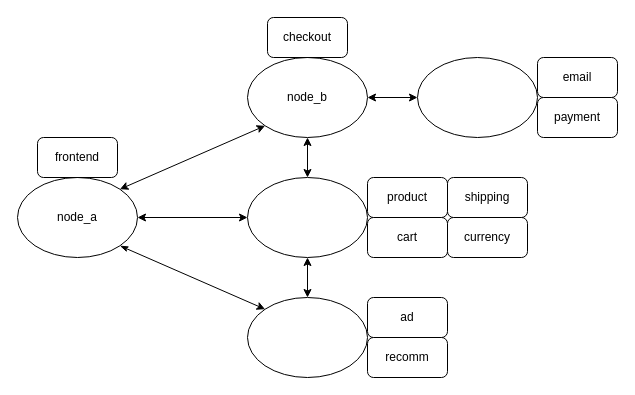
This 635x395 diagram has some shape labels left out. The box of each missing label's shape, as (x1, y1, x2, y2) in pixels:
node_c: (246, 296, 368, 378)
node_d: (246, 176, 368, 258)
node_e: (416, 56, 538, 138)
